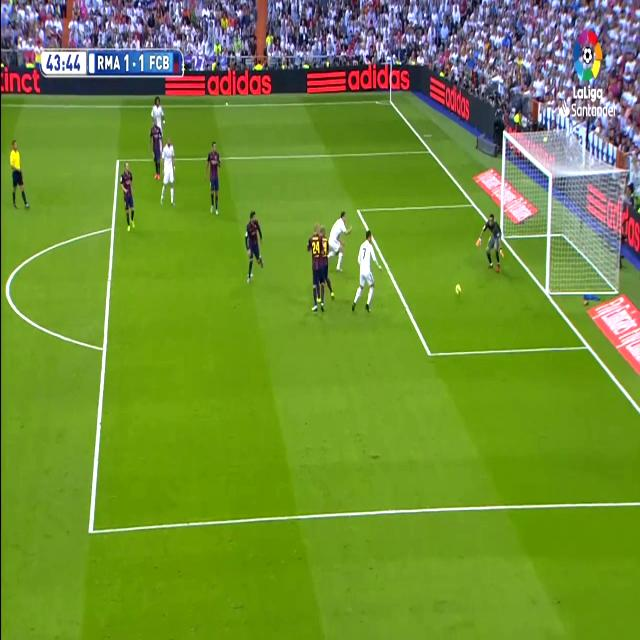bigarea_bottom_inner: (424, 339, 435, 366)
bigarea_top_inner: (354, 201, 362, 219)
bigarea_top_outter: (426, 142, 434, 158)
corner: (385, 94, 394, 107)
smallarea_top_outter: (469, 194, 477, 212)
